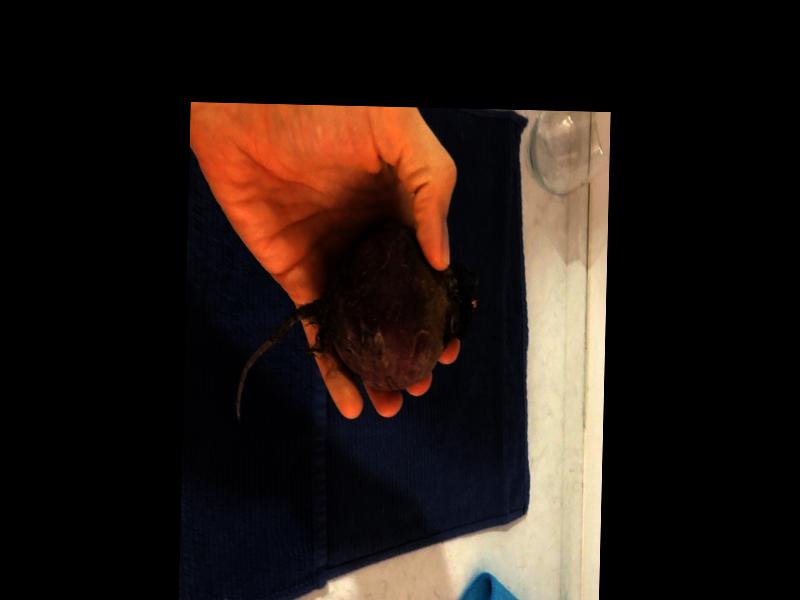Beet: (235, 216, 479, 429)
